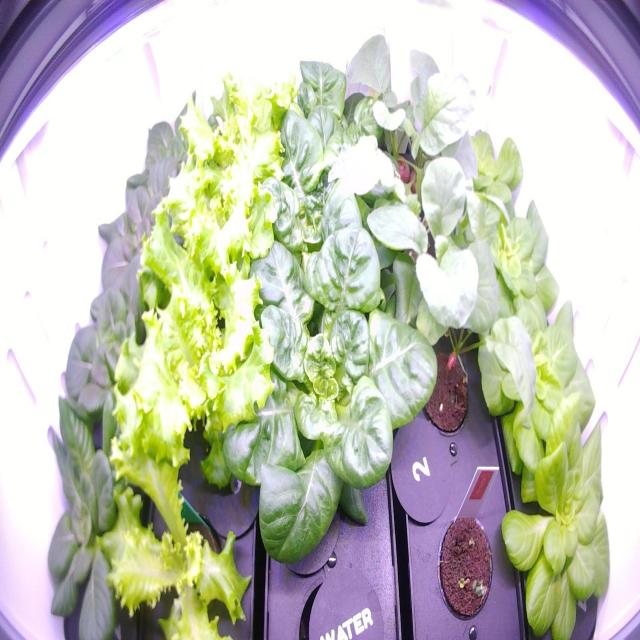young: (186, 214, 448, 574), (32, 390, 176, 636), (222, 100, 411, 282), (492, 404, 618, 638), (52, 242, 185, 443), (464, 284, 602, 476), (87, 150, 217, 304), (454, 195, 567, 348), (256, 47, 395, 171), (122, 78, 234, 218), (431, 110, 526, 225)
